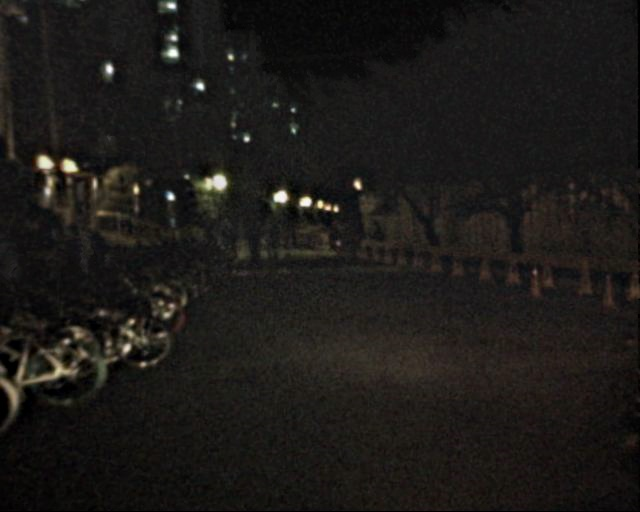person: (0, 231, 25, 291), (71, 221, 94, 277), (369, 219, 388, 266), (96, 225, 114, 268), (263, 217, 281, 260), (245, 221, 261, 261), (205, 216, 220, 253), (224, 222, 238, 256), (284, 216, 298, 242), (234, 219, 246, 249)
